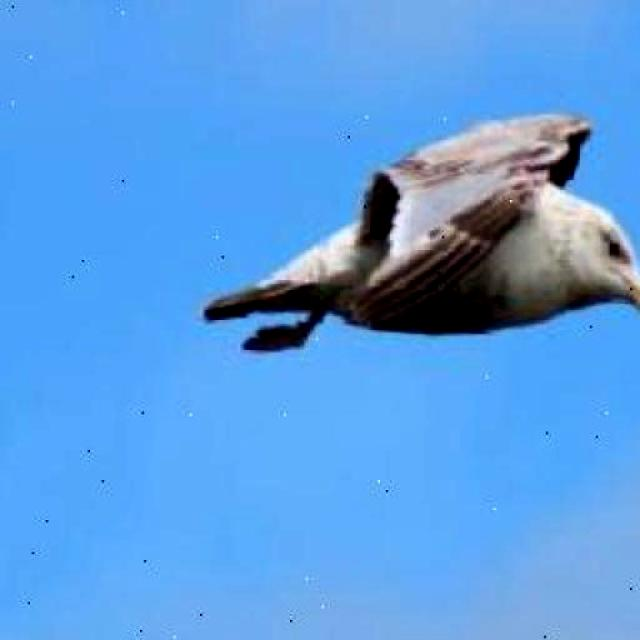airplane: (196, 89, 640, 379)
